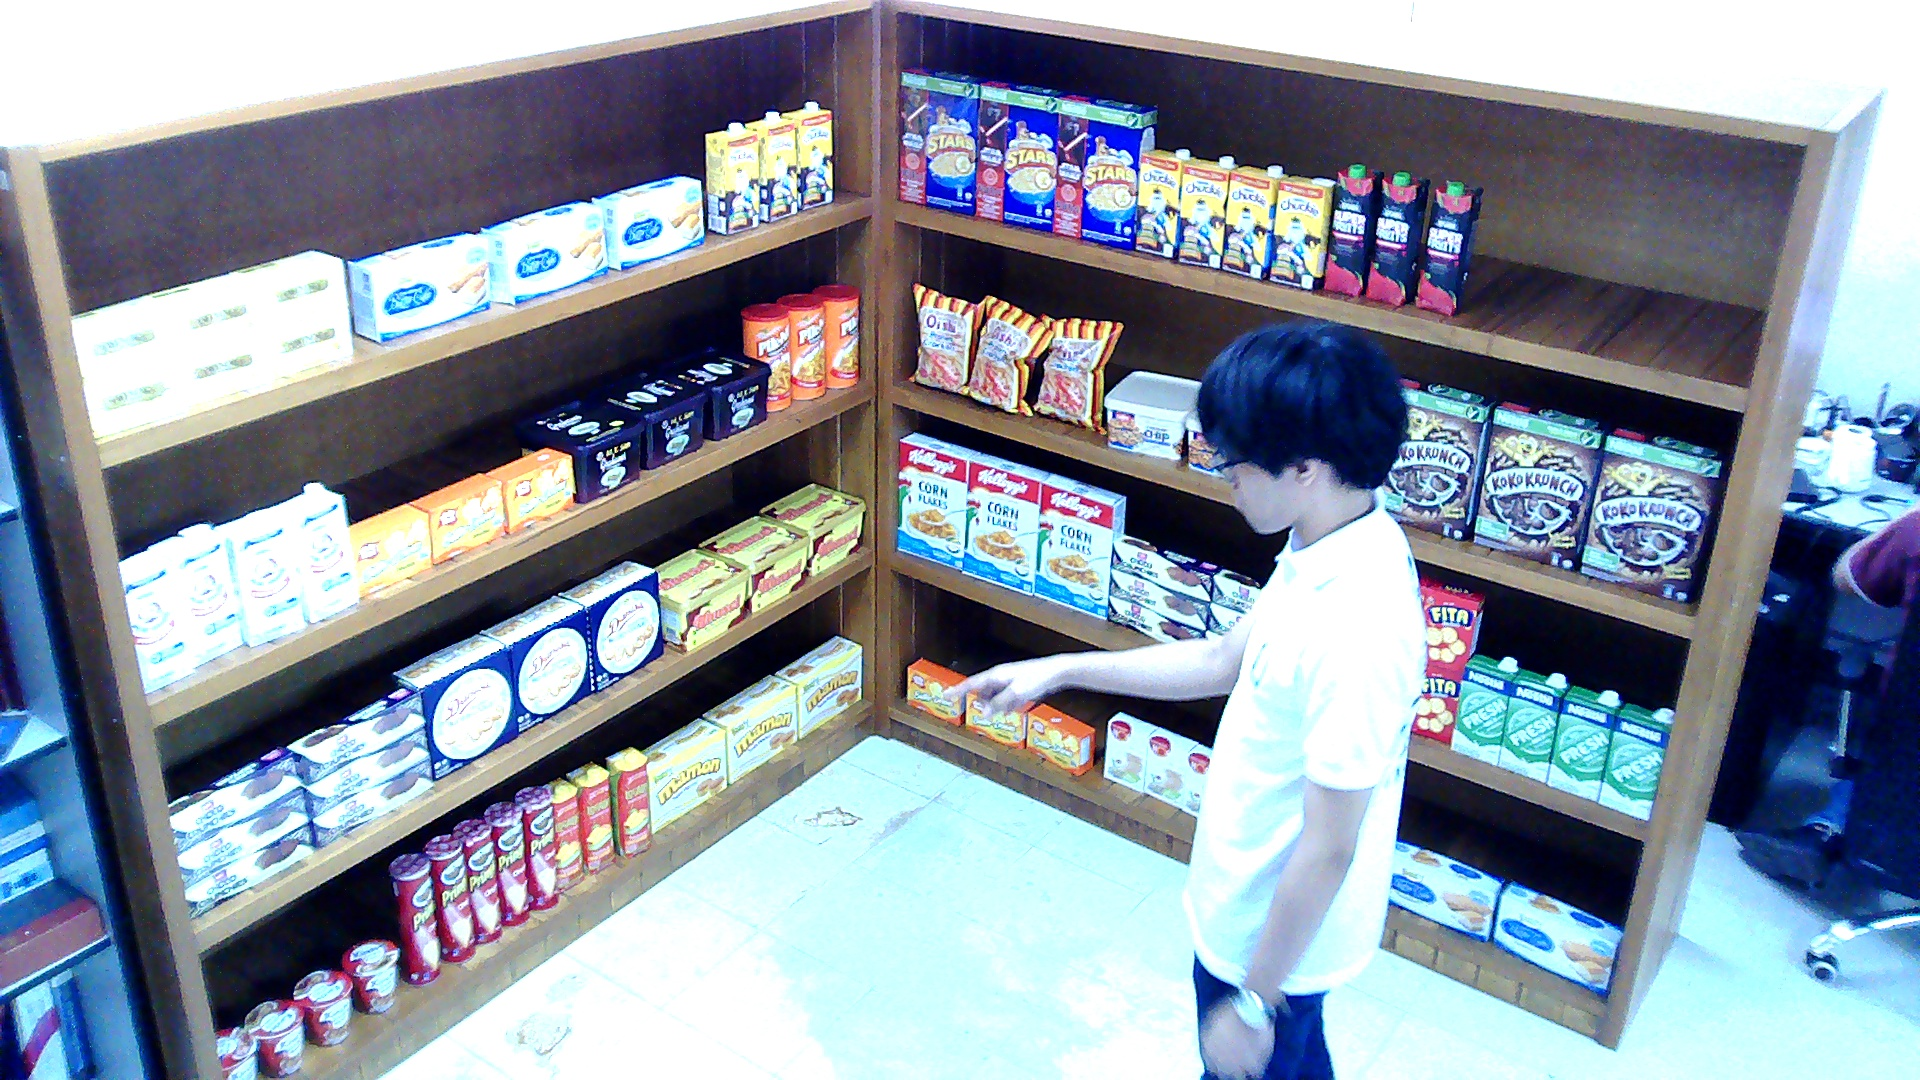Bear brand: (146, 522, 239, 666), (213, 506, 303, 648), (273, 481, 357, 623), (117, 549, 192, 695)
Buttercake: (345, 232, 489, 342), (1491, 879, 1623, 994), (480, 198, 606, 306), (1389, 837, 1503, 940), (591, 171, 702, 270)
Butterlicious: (408, 471, 504, 565), (483, 445, 573, 533), (348, 502, 429, 596), (1026, 702, 1095, 774), (906, 657, 972, 725), (963, 690, 1035, 749)
Camomille: (147, 272, 267, 355), (69, 295, 180, 383), (231, 248, 345, 324), (84, 359, 186, 438), (180, 331, 276, 405), (270, 306, 351, 376)
Choco Crunchies: (165, 747, 300, 855), (285, 686, 423, 785), (183, 819, 315, 918), (176, 787, 305, 886), (300, 727, 429, 815), (312, 754, 432, 848), (1109, 533, 1220, 601), (1107, 569, 1209, 628), (1107, 593, 1203, 638), (1212, 567, 1266, 614)
Chocolate Chips: (1103, 369, 1202, 459)
Chuckie: (1269, 173, 1335, 290), (1221, 164, 1287, 279), (1173, 154, 1239, 267), (1134, 149, 1191, 259), (744, 110, 798, 223), (705, 121, 756, 234), (779, 99, 830, 209)
Danisa: (390, 633, 519, 781), (479, 594, 590, 731), (558, 558, 663, 693)
Fita: (1422, 578, 1488, 670), (1413, 663, 1461, 742)
Fresh Milk: (1596, 702, 1674, 819), (1545, 683, 1623, 800), (1497, 668, 1569, 783), (1449, 655, 1521, 765)
Grahams: (513, 396, 645, 502), (585, 366, 705, 467), (651, 342, 771, 441)
Hansel: (696, 512, 810, 611), (756, 482, 864, 576), (656, 547, 749, 650)
Head: (1188, 314, 1410, 537)
Honey Stars: (1050, 90, 1158, 250), (975, 76, 1074, 231), (897, 62, 993, 213)
Kellogg Corn Flakes: (1032, 471, 1125, 619), (960, 452, 1050, 594), (893, 432, 980, 569)
Kimchi Noodles: (243, 998, 303, 1077), (291, 970, 351, 1046), (338, 939, 395, 1015), (213, 1026, 255, 1078)
Koko Krunch: (1578, 421, 1719, 603), (1473, 398, 1611, 569), (1383, 373, 1494, 540)
Locally Mango: (563, 760, 614, 873), (602, 746, 647, 859), (543, 776, 585, 893)
Mamon: (702, 673, 795, 783), (639, 717, 726, 834), (773, 632, 860, 738)
Oishi Prawn: (957, 295, 1056, 417), (1029, 310, 1125, 434), (906, 281, 984, 391)
Pik-nik: (741, 302, 792, 412), (777, 292, 825, 398), (810, 283, 858, 386)
Pringles: (387, 852, 441, 985), (420, 835, 474, 963), (453, 819, 501, 945), (482, 801, 527, 927), (516, 785, 558, 911)
Super Fruits: (1412, 180, 1481, 315), (1362, 170, 1428, 305), (1323, 165, 1383, 295)
iHop: (1104, 710, 1158, 791), (1143, 726, 1197, 807), (1178, 745, 1211, 817)
